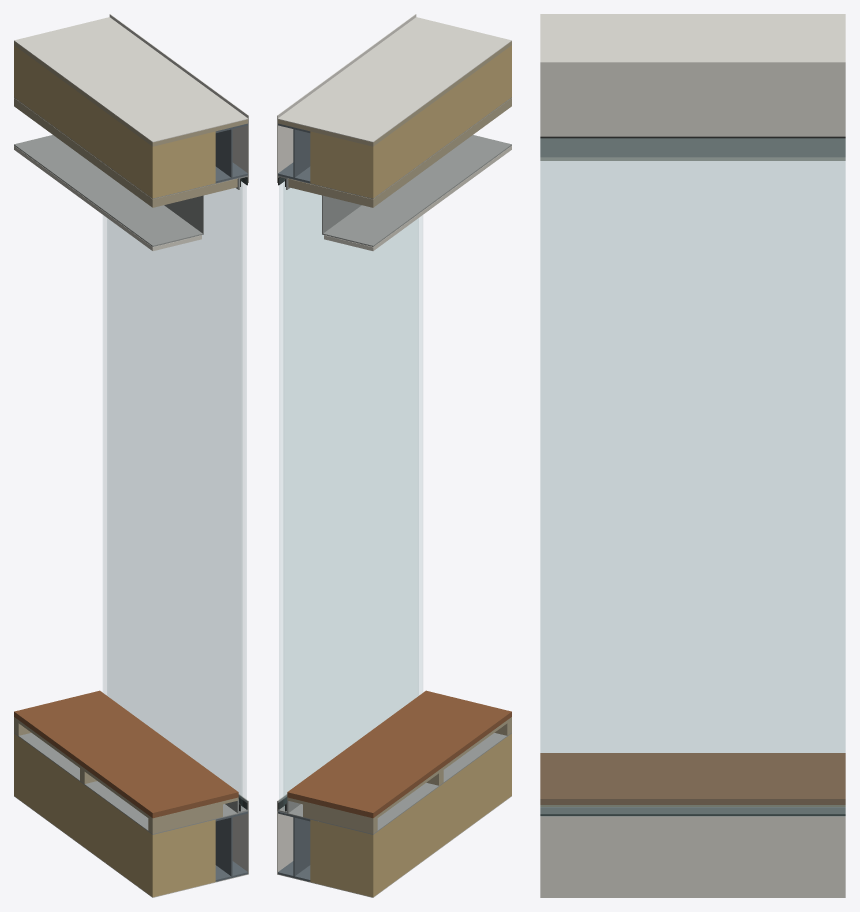
File: detail.glb
The picture shows the model from 3 angles, left to right: view 1: azimuth 30°, elevation 25°; view 2: azimuth 150°, elevation 25°; view 3: azimuth 270°, elevation 25°; orthographic projection. The views are drawn at different scales.
Visible parts, largest first — view 1: detail-5-14, detail-1-2, detail-4-12, detail-4-11, detail-2-6, detail-2-3, detail-2-4, detail-4-10, detail-3-7, detail-3-8, detail-3-9, detail-1-1 (+1 smaller); view 2: detail-5-14, detail-1-2, detail-4-12, detail-4-11, detail-2-6, detail-2-3, detail-2-4, detail-4-10, detail-3-7, detail-3-8, detail-3-9, detail-1-1 (+1 smaller); view 3: detail-5-14, detail-1-2, detail-3-9, detail-4-12, detail-2-3, detail-5-13, detail-5-15, detail-2-5, detail-4-10.
Boxes of the visible parts, box(x1,y1,x2,y2) form: detail-5-14: box(103, 178, 246, 809); detail-1-2: box(14, 14, 248, 182); detail-4-12: box(14, 690, 238, 818); detail-4-11: box(14, 733, 215, 897); detail-2-6: box(14, 45, 215, 198); detail-2-3: box(14, 135, 203, 246); detail-2-4: box(14, 41, 247, 207); detail-4-10: box(14, 717, 238, 833); detail-3-7: box(14, 733, 238, 834); detail-3-8: box(215, 811, 247, 881); detail-3-9: box(14, 794, 248, 897); detail-1-1: box(215, 123, 247, 183); detail-5-14: box(279, 178, 422, 809); detail-1-2: box(277, 14, 511, 182); detail-4-12: box(287, 690, 511, 818); detail-4-11: box(310, 733, 511, 897); detail-2-6: box(310, 45, 511, 198); detail-2-3: box(322, 135, 511, 246); detail-2-4: box(278, 41, 511, 207); detail-4-10: box(287, 717, 511, 833); detail-3-7: box(287, 733, 511, 834); detail-3-8: box(278, 811, 310, 881); detail-3-9: box(277, 794, 511, 897); detail-1-1: box(278, 123, 310, 183); detail-5-14: box(540, 138, 845, 815); detail-1-2: box(540, 14, 845, 136); detail-3-9: box(540, 816, 845, 897); detail-4-12: box(540, 753, 845, 804); detail-2-3: box(540, 138, 845, 157); detail-5-13: box(540, 807, 845, 816); detail-5-15: box(540, 136, 845, 816); detail-2-5: box(540, 157, 845, 160); detail-4-10: box(540, 805, 845, 806).
Bounding box in the file's own units: 0.48 × 3.62 × 1.2.
